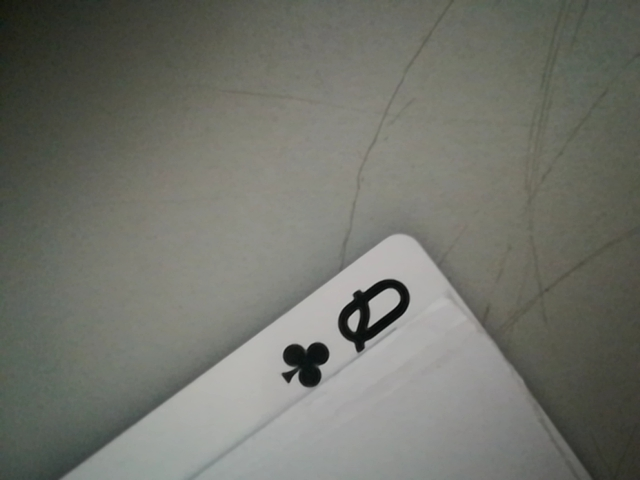mh q: (262, 264, 426, 398)
